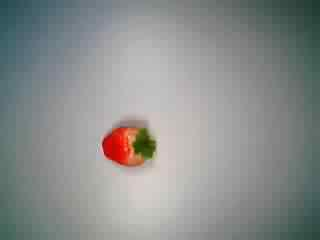strawberry: (97, 116, 163, 168)
